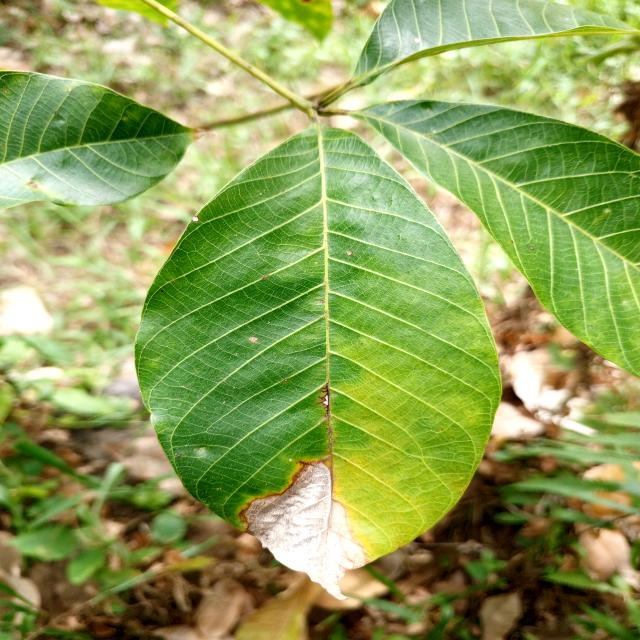Colletotrichum: (191, 216, 200, 222), (346, 250, 352, 256), (529, 246, 534, 251), (320, 300, 323, 303)
Corynespora: (314, 382, 330, 418)
Leaf-Blight: (244, 460, 370, 599)
